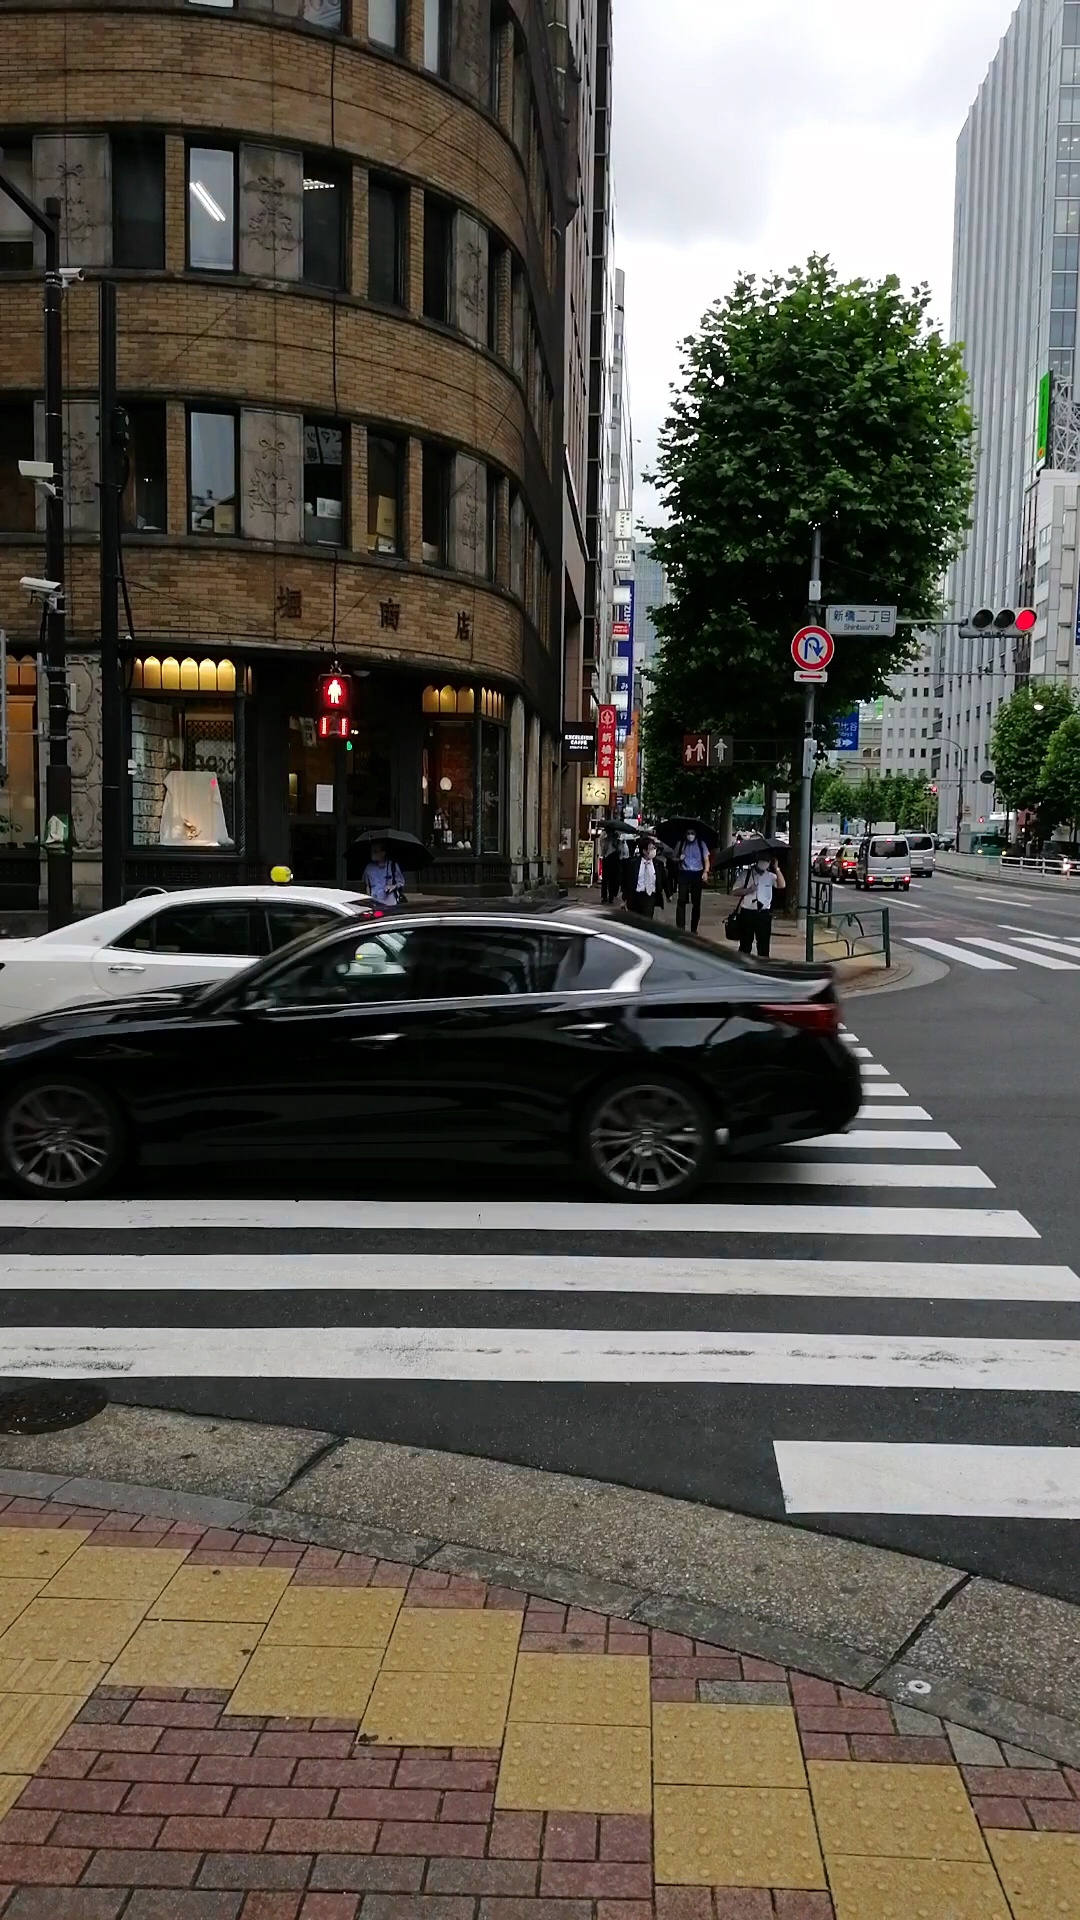red: (316, 673, 351, 742)
